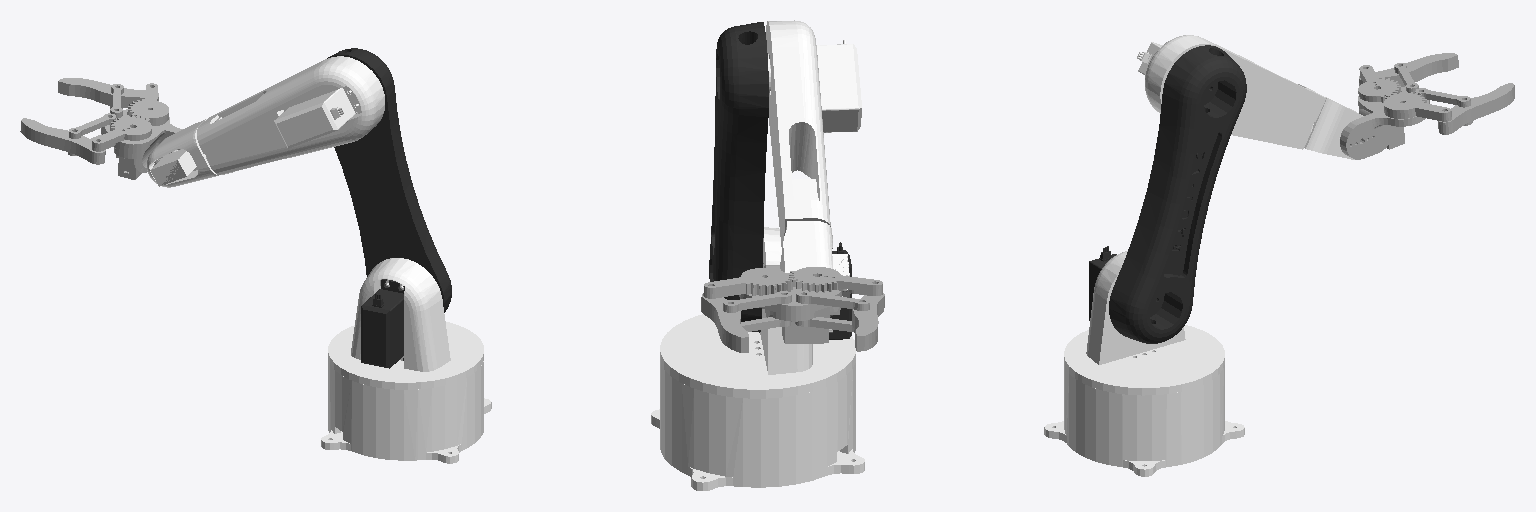
The robot description file, URDF, robot "Exported_Assembly.SLDASM":
<?xml version="1.0" encoding="utf-8"?>
<!-- This URDF was automatically created by SolidWorks to URDF Exporter! Originally created by [author] ([email redacted]) 
     Commit Version: 1.6.0-4-g7f85cfe  Build Version: 1.6.7995.38578
     For more information, please see http://wiki.ros.org/sw_urdf_exporter -->
<robot
  name="Exported_Assembly.SLDASM">
  <link
    name="base_link">
    <inertial>
      <origin
        xyz="0.0290215926434994 0.0700398197688096 0.081883994635714"
        rpy="0 0 0" />
      <mass
        value="0.217589477444393" />
      <inertia
        ixx="0.000193883281944355"
        ixy="5.47609099327043E-06"
        ixz="-4.83809279842046E-06"
        iyy="0.000274479555678797"
        iyz="-4.53735136079865E-06"
        izz="0.000204288318976544" />
    </inertial>
    <visual>
      <origin
        xyz="0 0 0"
        rpy="0 0 0" />
      <geometry>
        <mesh
          filename="package://Exported_Assembly.SLDASM/meshes/base_link.STL" />
      </geometry>
      <material
        name="">
        <color
          rgba="1 1 1 1" />
      </material>
    </visual>
    <collision>
      <origin
        xyz="0 0 0"
        rpy="0 0 0" />
      <geometry>
        <mesh
          filename="package://Exported_Assembly.SLDASM/meshes/base_link.STL" />
      </geometry>
    </collision>
  </link>
  <link
    name="Link_One">
    <inertial>
      <origin
        xyz="-0.0621304545883271 0.0503460976120289 -0.0162506507334427"
        rpy="0 0 0" />
      <mass
        value="0.171861392385501" />
      <inertia
        ixx="6.86224238455235E-05"
        ixy="2.82453652408165E-07"
        ixz="-0.000105758399024818"
        iyy="0.00043769898048304"
        iyz="6.36246325617278E-10"
        izz="0.000390557174525798" />
    </inertial>
    <visual>
      <origin
        xyz="0 0 0"
        rpy="0 0 0" />
      <geometry>
        <mesh
          filename="package://Exported_Assembly.SLDASM/meshes/Link_One.STL" />
      </geometry>
      <material
        name="">
        <color
          rgba="0.250980392156863 0.250980392156863 0.250980392156863 1" />
      </material>
    </visual>
    <collision>
      <origin
        xyz="0 0 0"
        rpy="0 0 0" />
      <geometry>
        <mesh
          filename="package://Exported_Assembly.SLDASM/meshes/Link_One.STL" />
      </geometry>
    </collision>
  </link>
  <joint
    name="Prismatic_J2"
    type="fixed">
    <origin
      xyz="-0.00945401068847282 -0.107218554049707 0.111452198088611"
      rpy="0.964964093415914 1.5707963267949 0" />
    <parent
      link="base_link" />
    <child
      link="Link_One" />
    <axis
      xyz="0 0 0" />
  </joint>
  <link
    name="Line_Two">
    <inertial>
      <origin
        xyz="-0.0287997193806698 -0.0303482733500582 -4.12124644667278E-05"
        rpy="0 0 0" />
      <mass
        value="0.121340714185467" />
      <inertia
        ixx="2.75282354680034E-05"
        ixy="1.09593451162947E-06"
        ixz="-2.17610165259665E-07"
        iyy="0.000123948102991276"
        iyz="1.02187724670186E-08"
        izz="0.000114549963563042" />
    </inertial>
    <visual>
      <origin
        xyz="0 0 0"
        rpy="0 0 0" />
      <geometry>
        <mesh
          filename="package://Exported_Assembly.SLDASM/meshes/Line_Two.STL" />
      </geometry>
      <material
        name="">
        <color
          rgba="1 1 1 1" />
      </material>
    </visual>
    <collision>
      <origin
        xyz="0 0 0"
        rpy="0 0 0" />
      <geometry>
        <mesh
          filename="package://Exported_Assembly.SLDASM/meshes/Line_Two.STL" />
      </geometry>
    </collision>
  </link>
  <joint
    name="Prismatic_J3"
    type="continuous">
    <origin
      xyz="-0.144270275080453 0 -0.0404792028992657"
      rpy="0 -1.05426056463251 3.14159265358979" />
    <parent
      link="Link_One" />
    <child
      link="Line_Two" />
    <axis
      xyz="0 1 0" />
  </joint>
  <link
    name="Link_Three">
    <inertial>
      <origin
        xyz="-0.00500307703042197 -0.00129218034156517 0.0459555100110903"
        rpy="0 0 0" />
      <mass
        value="0.02933122034538" />
      <inertia
        ixx="5.81093825999491E-06"
        ixy="-4.76164782458143E-09"
        ixz="1.70904888107207E-08"
        iyy="6.55480406407056E-06"
        iyz="4.28590767368025E-07"
        izz="3.47643769058007E-06" />
    </inertial>
    <visual>
      <origin
        xyz="0 0 0"
        rpy="0 0 0" />
      <geometry>
        <mesh
          filename="package://Exported_Assembly.SLDASM/meshes/Link_Three.STL" />
      </geometry>
      <material
        name="">
        <color
          rgba="1 1 1 1" />
      </material>
    </visual>
    <collision>
      <origin
        xyz="0 0 0"
        rpy="0 0 0" />
      <geometry>
        <mesh
          filename="package://Exported_Assembly.SLDASM/meshes/Link_Three.STL" />
      </geometry>
    </collision>
  </link>
  <joint
    name="Prismatic_J4"
    type="continuous">
    <origin
      xyz="-0.078264678389686 -0.0330500000000051 0.00509999999999927"
      rpy="1.57079632679486 -1.53047133805223 -1.57079632679486" />
    <parent
      link="Line_Two" />
    <child
      link="Link_Three" />
    <axis
      xyz="0 0 1" />
  </joint>
  <link
    name="Gripper">
    <inertial>
      <origin
        xyz="0.0327739387252827 0.0056100890572815 0.0106066546620863"
        rpy="0 0 0" />
      <mass
        value="0.0541246456457806" />
      <inertia
        ixx="5.40337626099384E-06"
        ixy="-7.1377615111053E-07"
        ixz="4.53030877135582E-07"
        iyy="1.24745396288085E-05"
        iyz="5.96567502551352E-08"
        izz="9.54622535827784E-06" />
    </inertial>
    <visual>
      <origin
        xyz="0 0 0"
        rpy="0 0 0" />
      <geometry>
        <mesh
          filename="package://Exported_Assembly.SLDASM/meshes/Gripper.STL" />
      </geometry>
      <material
        name="">
        <color
          rgba="0.752941176470588 0.752941176470588 0.752941176470588 1" />
      </material>
    </visual>
    <collision>
      <origin
        xyz="0 0 0"
        rpy="0 0 0" />
      <geometry>
        <mesh
          filename="package://Exported_Assembly.SLDASM/meshes/Gripper.STL" />
      </geometry>
    </collision>
  </link>
  <joint
    name="Prismatic_J5"
    type="continuous">
    <origin
      xyz="-0.00510000000000396 0 0.0558353216103228"
      rpy="-1.5707963267949 -0.983919180392106 3.14159265358979" />
    <parent
      link="Link_Three" />
    <child
      link="Gripper" />
    <axis
      xyz="0 0 1" />
  </joint>
</robot>

--- Render facts (derived) ---
3 views of the same robot in one strip: view 1: azimuth 30°, elevation 25°; view 2: azimuth 150°, elevation 25°; view 3: azimuth 270°, elevation 25° (orthographic).
Robot: Exported_Assembly.SLDASM — 5 links, 4 joints (3 continuous, 1 fixed); root link base_link; default pose: every joint at zero.
Links seen in each view (by area): view 1: base_link, Link_One, Line_Two, Gripper, Link_Three; view 2: base_link, Link_One, Line_Two, Gripper, Link_Three; view 3: base_link, Link_One, Gripper, Line_Two, Link_Three.
Link boxes in pixels (x1,y1,x2,y2): base_link: [321, 258, 491, 463]; Link_One: [327, 48, 451, 368]; Line_Two: [197, 56, 384, 174]; Gripper: [20, 78, 186, 184]; Link_Three: [147, 119, 218, 187]; base_link: [651, 227, 864, 490]; Link_One: [709, 22, 851, 339]; Line_Two: [766, 20, 861, 247]; Gripper: [701, 256, 884, 352]; Link_Three: [780, 221, 850, 297]; base_link: [1044, 251, 1244, 476]; Link_One: [1089, 45, 1246, 343]; Gripper: [1340, 53, 1514, 159]; Line_Two: [1137, 35, 1325, 149]; Link_Three: [1304, 95, 1363, 159].
Bounding box of the posed robot: 0.2363 × 0.2918 × 0.2546 m (x, y, z).
Meshes: 5 distinct files referenced, 5 mesh visuals loaded (5 binary STL).